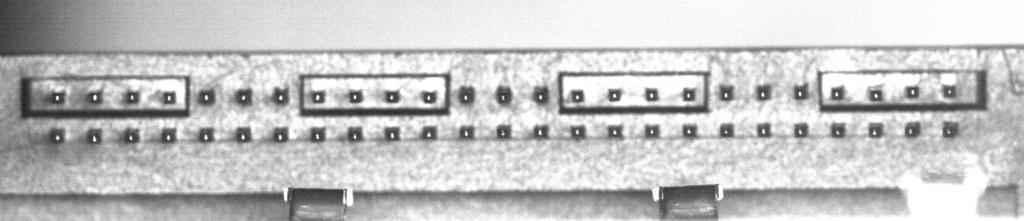pin_ok: (532, 85, 550, 103), (495, 87, 512, 105), (942, 121, 959, 138), (198, 88, 215, 104), (904, 121, 921, 137), (272, 126, 288, 142), (160, 127, 176, 143), (124, 127, 140, 143), (86, 128, 102, 144), (830, 122, 846, 138), (793, 84, 809, 100), (49, 127, 65, 143), (458, 125, 475, 140), (719, 84, 734, 101), (347, 126, 363, 141), (496, 124, 512, 139), (421, 125, 437, 140), (236, 126, 251, 142), (868, 122, 884, 137), (756, 84, 771, 100), (124, 89, 140, 104), (607, 124, 624, 138), (532, 124, 549, 138), (644, 123, 659, 138), (682, 87, 697, 102), (198, 129, 214, 143), (310, 127, 326, 141), (570, 124, 586, 138), (682, 123, 698, 137), (384, 126, 400, 140), (719, 123, 735, 137), (568, 88, 584, 102), (868, 87, 884, 101), (941, 84, 957, 98), (51, 91, 66, 105), (794, 123, 809, 137), (237, 89, 251, 104), (905, 84, 920, 98), (644, 87, 659, 101), (385, 89, 400, 103), (422, 90, 437, 104), (609, 87, 624, 101), (348, 89, 363, 103), (830, 86, 845, 100), (757, 123, 771, 137), (87, 90, 102, 103), (460, 89, 473, 103), (274, 89, 287, 103), (311, 90, 325, 103), (162, 91, 176, 104)
